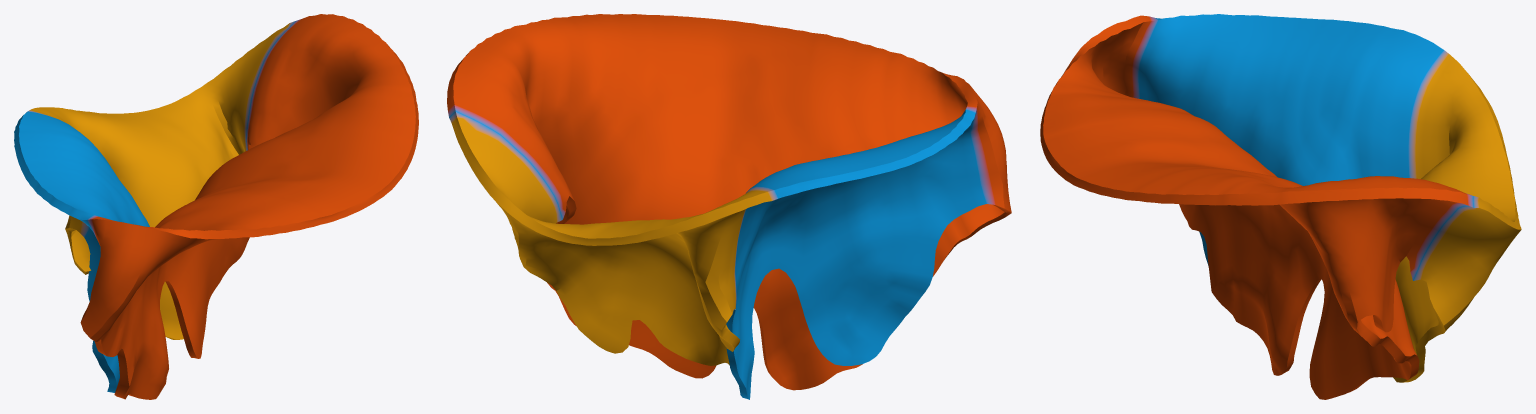
The model's file is OCS13_1008_elset.glb.
3 renders of one model, left to right at view 1: azimuth 30°, elevation 25°; view 2: azimuth 150°, elevation 25°; view 3: azimuth 270°, elevation 25°, orthographic. The views are drawn at different scales.
Visible parts, largest first — view 1: OCS13_1008_elset; view 2: OCS13_1008_elset; view 3: OCS13_1008_elset.
Part boxes in pixels (box(x1,y1,x2,y2)): OCS13_1008_elset: box(14, 14, 418, 399); OCS13_1008_elset: box(447, 14, 1011, 399); OCS13_1008_elset: box(1040, 14, 1521, 399).
Size of the model in its own units: 0.0322 by 0.022 by 0.0289.
